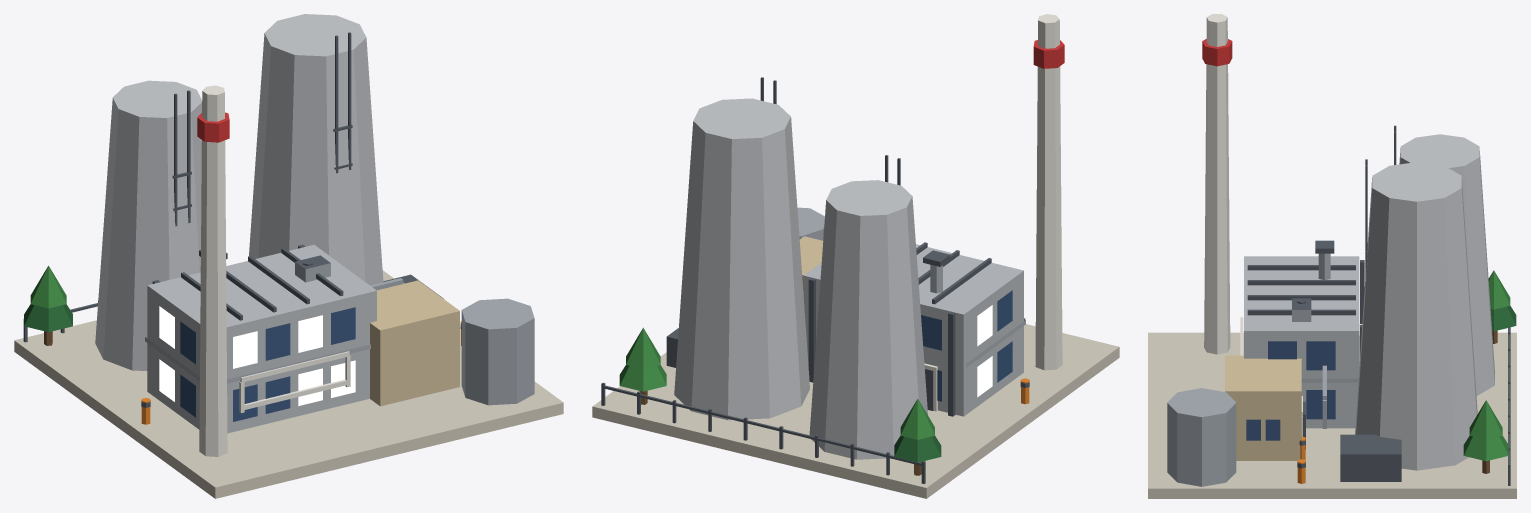
3 views of the same model, side by side, from view 1: azimuth 30°, elevation 25°; view 2: azimuth 150°, elevation 25°; view 3: azimuth 270°, elevation 25° (orthographic). The views are drawn at different scales.
Visible parts, largest first — view 1: b40; view 2: b40; view 3: b40.
Boxes of the visible parts, bbox=[...] form: b40: bbox=[14, 14, 563, 498]; b40: bbox=[592, 14, 1119, 498]; b40: bbox=[1148, 14, 1516, 498].
Size of the model in its own units: 0.9675 by 0.98 by 0.96.
